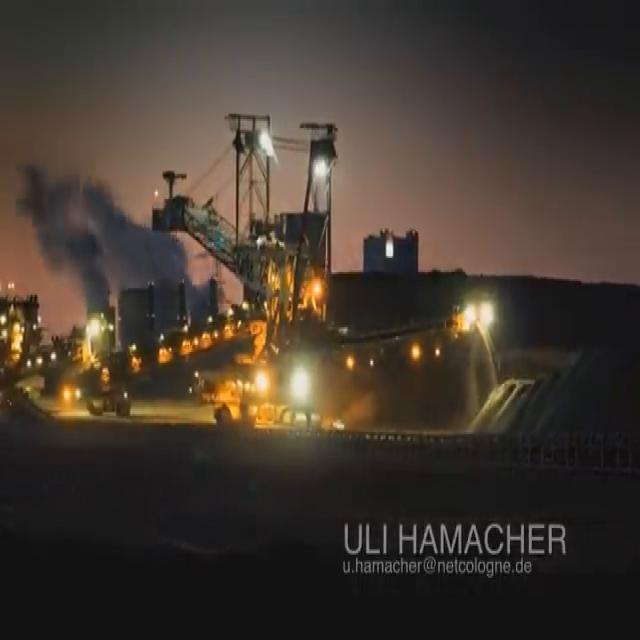smoke: (21, 165, 189, 311)
